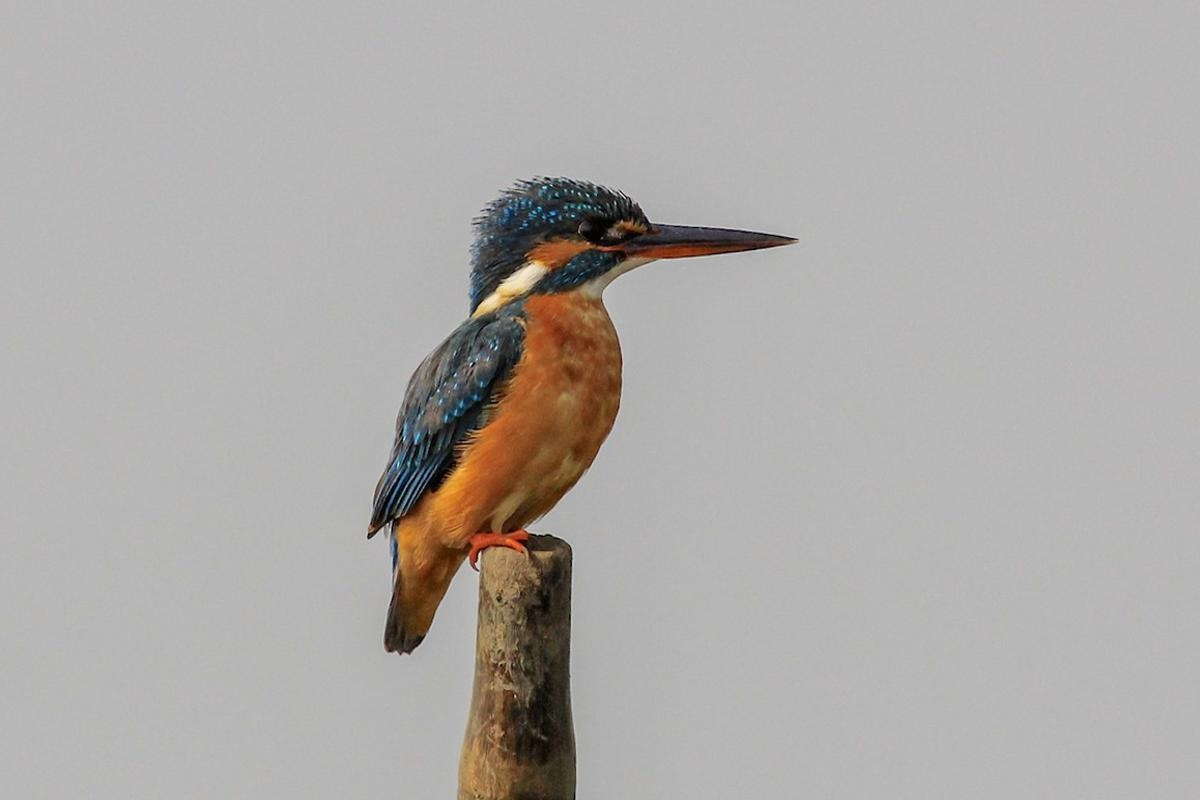kingfisher: (390, 179, 803, 616)
